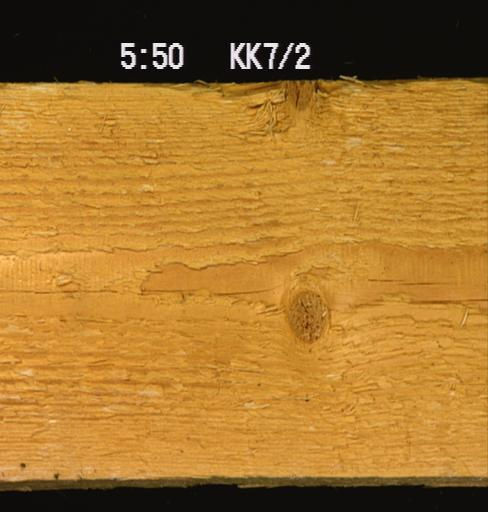split: (0, 286, 117, 293), (395, 278, 456, 287)
wave: (158, 78, 410, 100)
